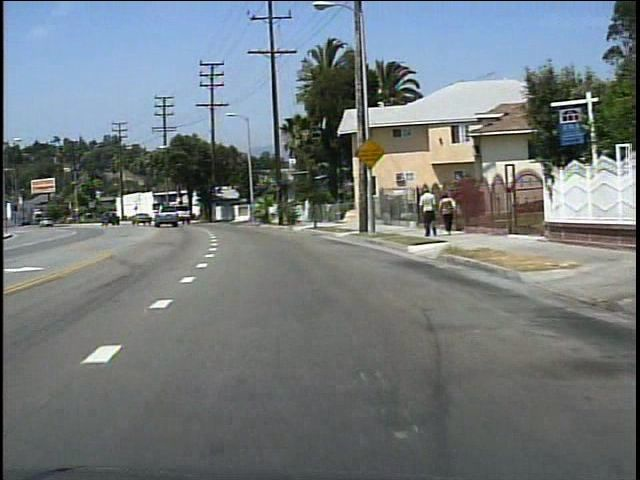person: (415, 184, 437, 240), (436, 189, 459, 235)
